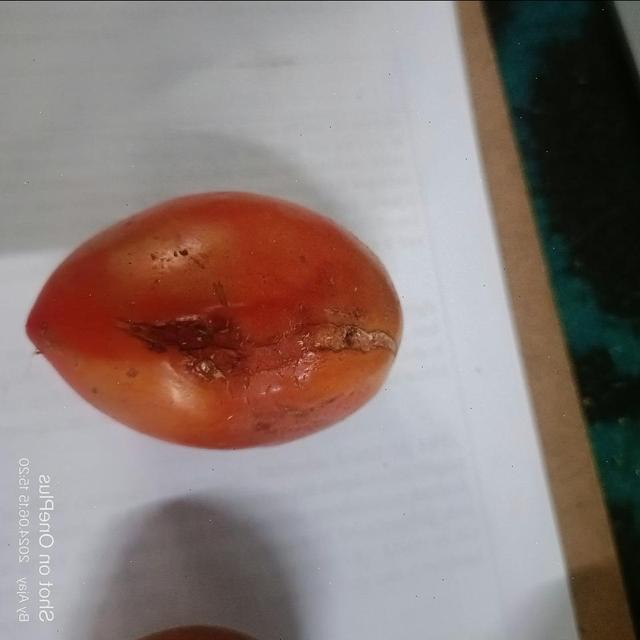Cracking Fruit: (130, 108, 386, 325)
